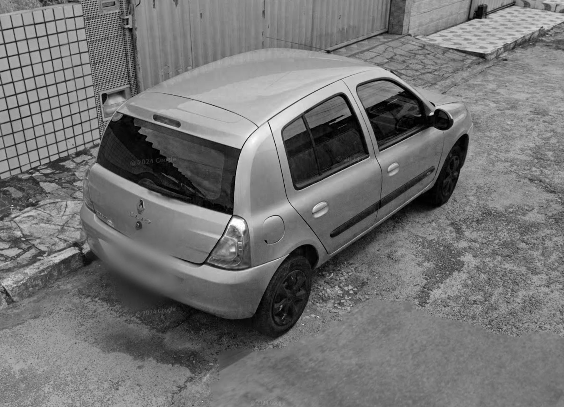car: (78, 35, 476, 338)
